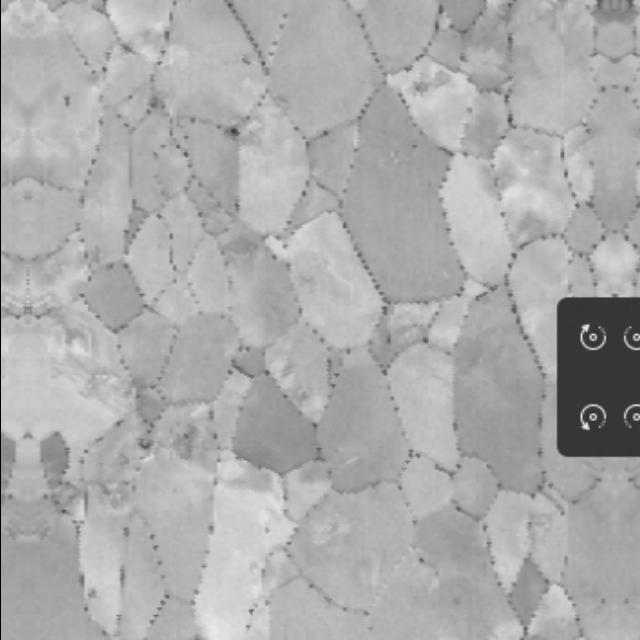good_void: (405, 64, 445, 101), (219, 121, 250, 140), (130, 433, 155, 456), (233, 53, 255, 68), (56, 94, 73, 111)
